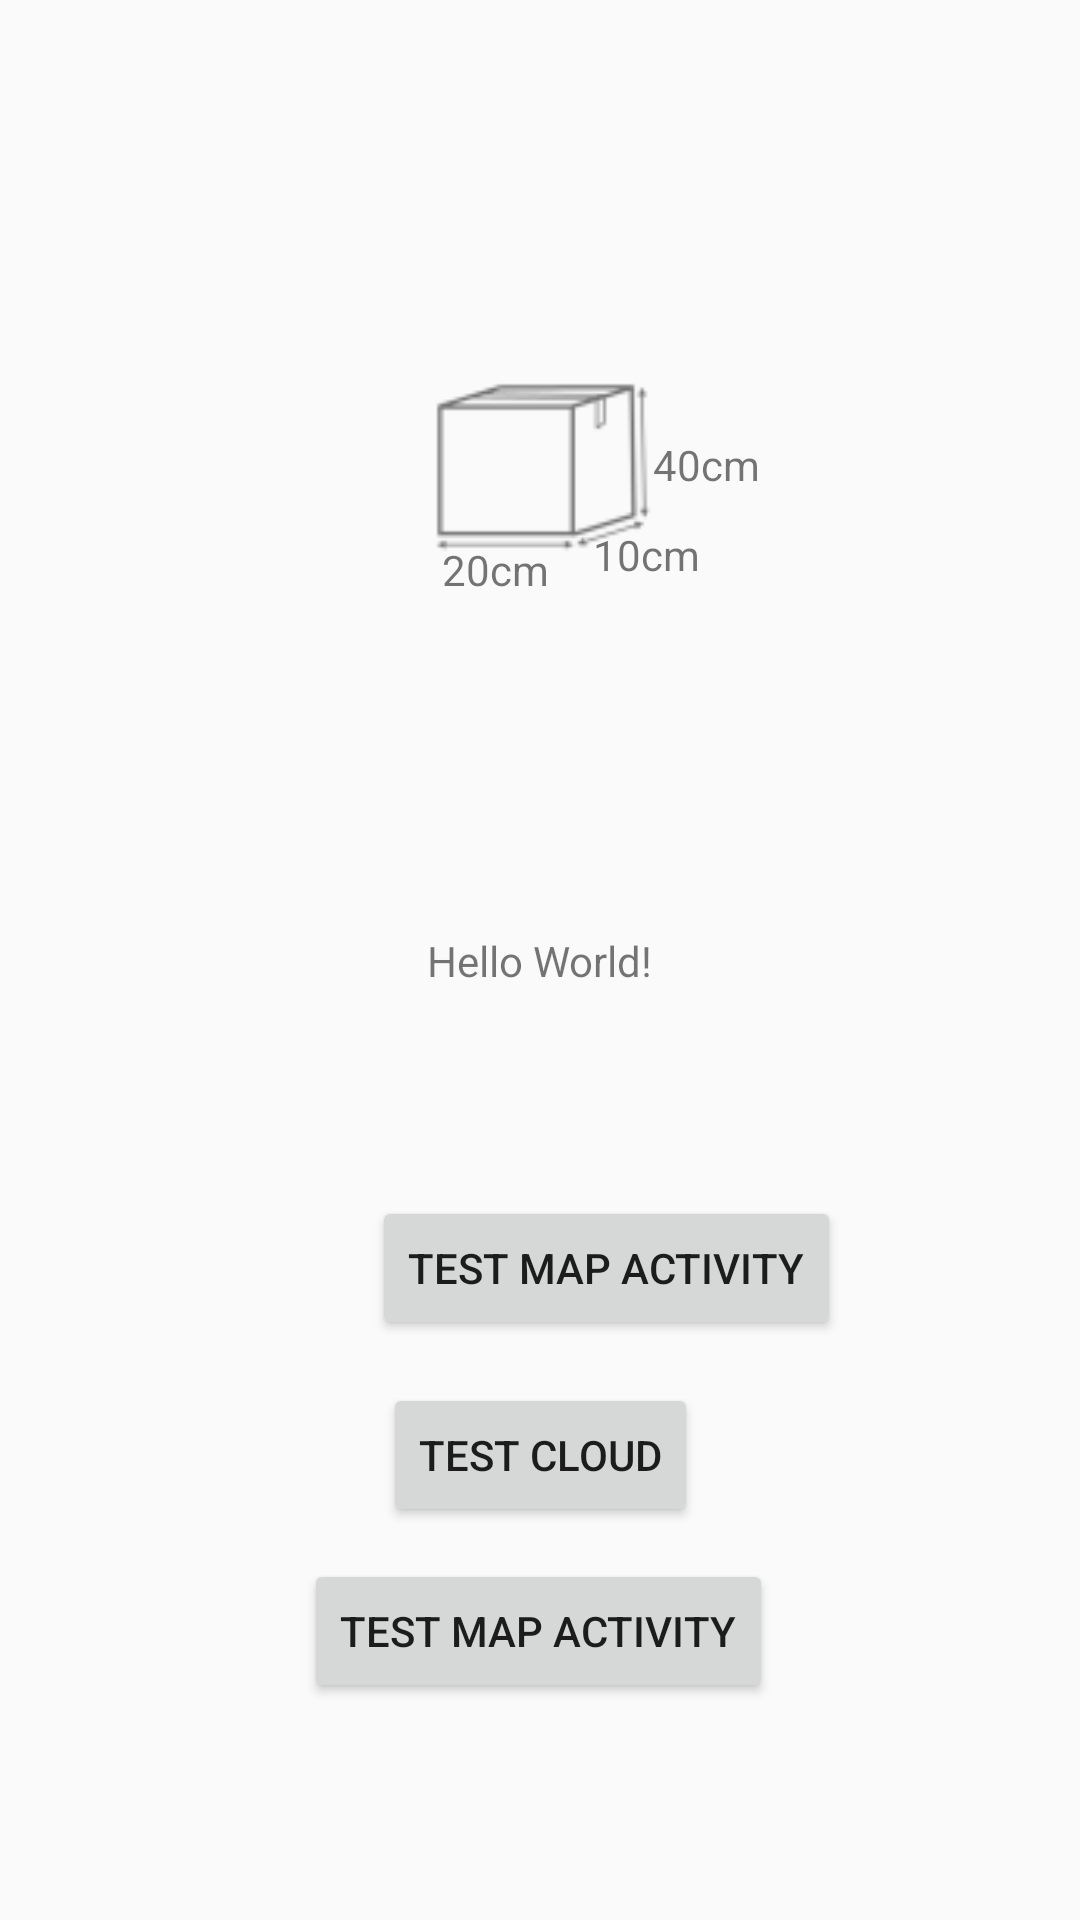

Icons on this 1080x1920 Android screen, each with the point to tap as [x,y]:
parcel measures: [542,485]
